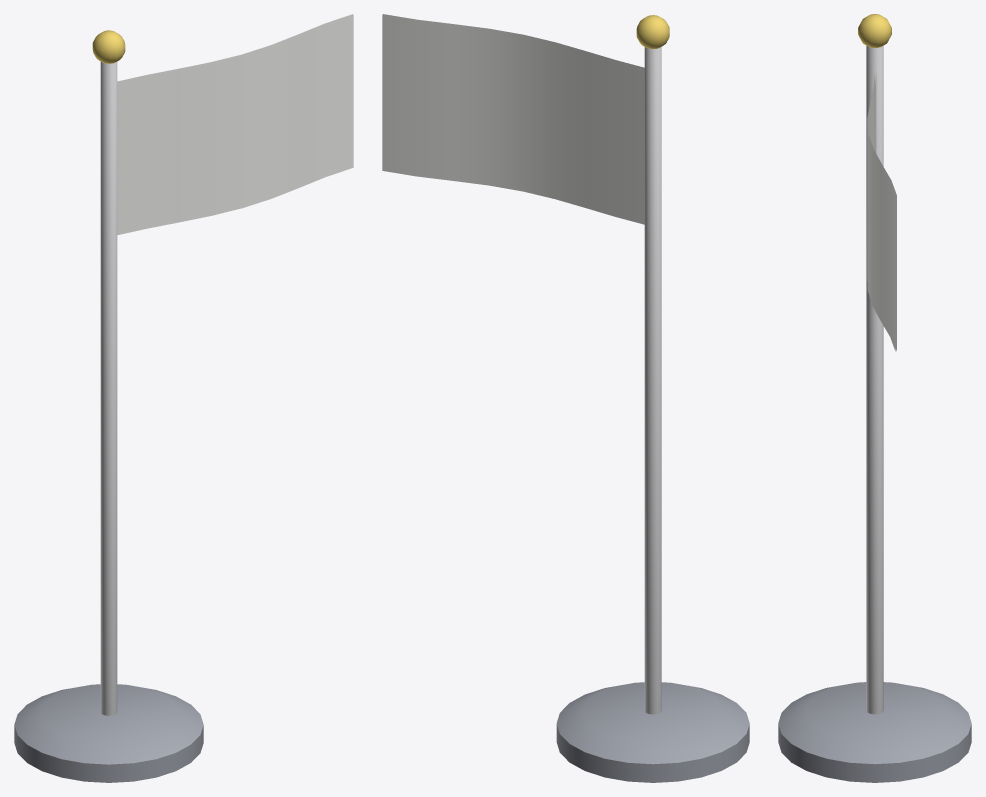
Rendered from flag.glb.
The picture shows the model from 3 angles, left to right: view 1: azimuth 30°, elevation 25°; view 2: azimuth 150°, elevation 25°; view 3: azimuth 270°, elevation 25°; orthographic projection. The views are drawn at different scales.
Parts seen in each view (by area): view 1: cloth, base, pole, top; view 2: cloth, base, pole, top; view 3: base, pole, cloth, top.
Boxes of the visible parts, <box> form: cloth: <box>117,14,353,235</box>; base: <box>14,684,203,782</box>; pole: <box>100,62,117,715</box>; top: <box>92,30,125,63</box>; cloth: <box>382,14,644,224</box>; base: <box>556,682,749,782</box>; pole: <box>644,47,661,714</box>; top: <box>636,15,669,49</box>; base: <box>778,682,971,782</box>; pole: <box>866,46,883,714</box>; cloth: <box>867,73,896,351</box>; top: <box>858,14,891,47</box>.
Bounding box in the file's own units: 1.15 × 2.32 × 0.56.
